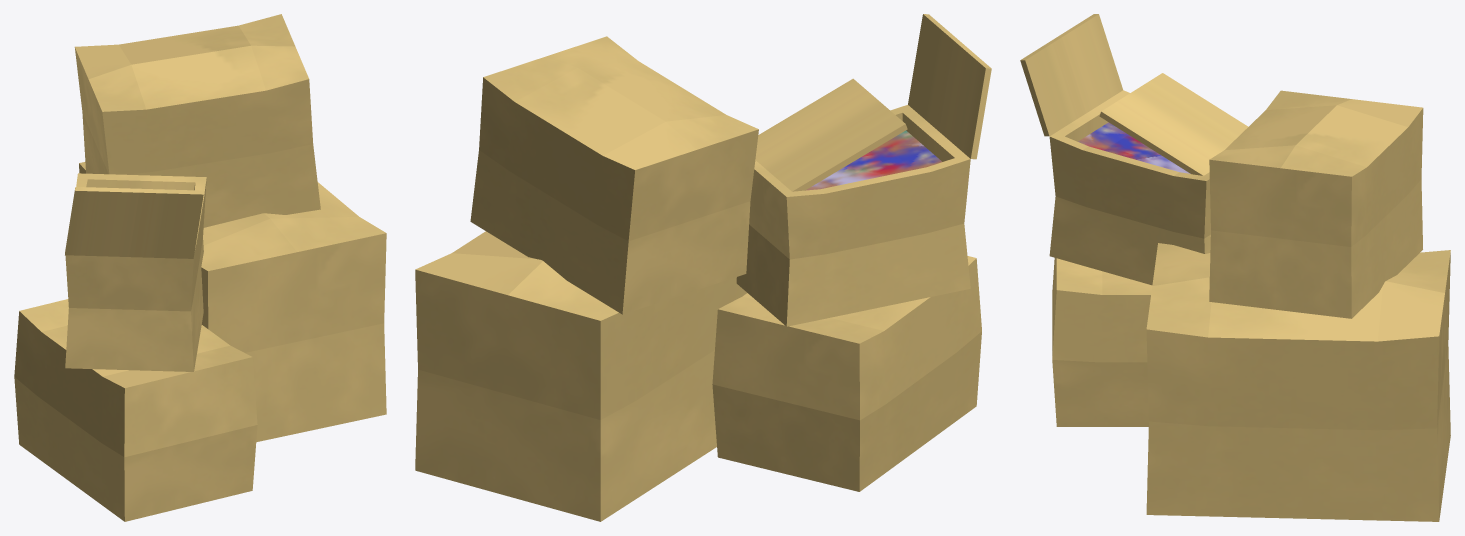
Rendered from Boxes.glb.
3 renders of one model, left to right at view 1: azimuth 30°, elevation 25°; view 2: azimuth 150°, elevation 25°; view 3: azimuth 270°, elevation 25°, orthographic. The views are drawn at different scales.
Parts seen in each view (by area): view 1: Boxes; view 2: Boxes; view 3: Boxes.
Boxes of the visible parts, <box> form: Boxes: <box>14,14,386,521</box>; Boxes: <box>415,14,991,521</box>; Boxes: <box>1020,14,1450,521</box>.
Size of the model in its own units: 2.88 by 2.6 by 2.99.
Materials: 1 (1 with a texture image).
